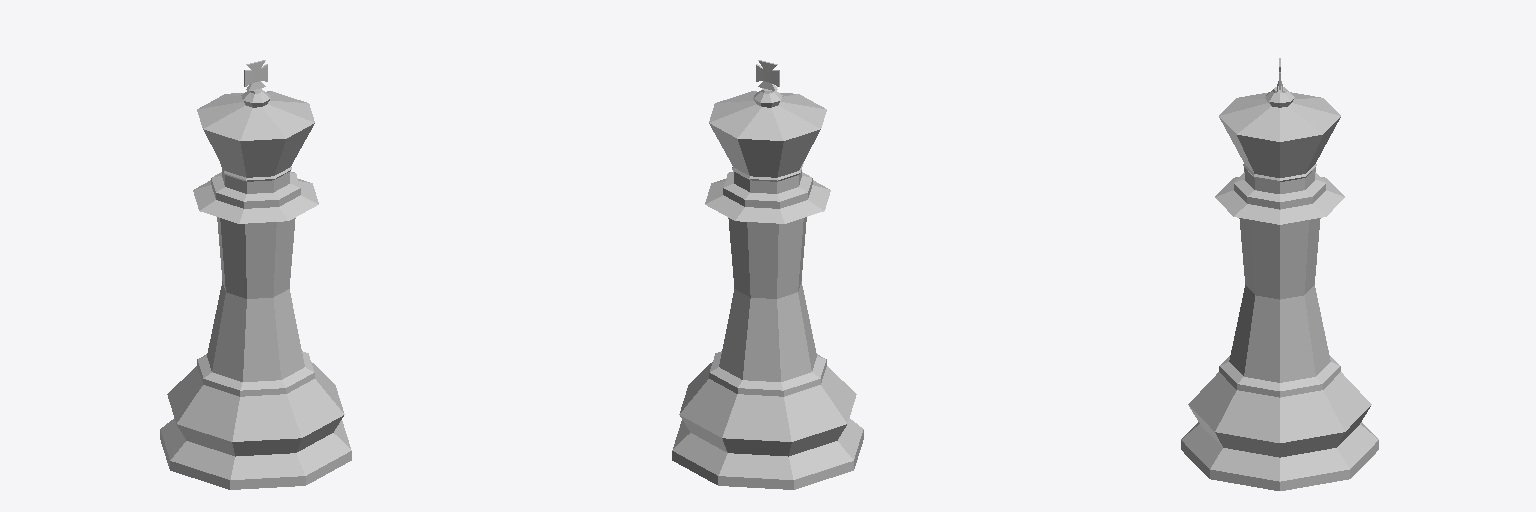
File: king.obj
3 views of the same model, side by side, from view 1: azimuth 30°, elevation 25°; view 2: azimuth 150°, elevation 25°; view 3: azimuth 270°, elevation 25° (orthographic).
Parts seen in each view (by area): view 1: King; view 2: King; view 3: King.
Part boxes in pixels (x1,y1,x2,y2): King: (160,60,351,489); King: (672,60,863,489); King: (1181,58,1378,490).
Bounding box in the file's own units: 4.5 × 9.66 × 4.5.